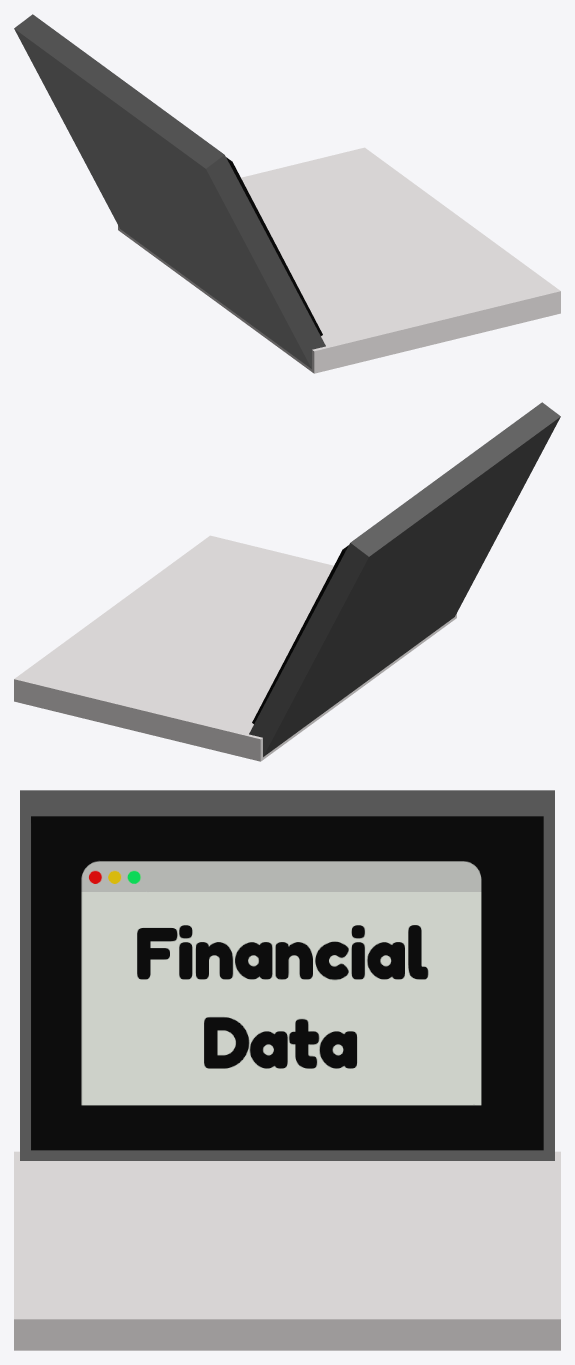
Rendered from laptop.glb.
The picture shows the model from 3 angles, top to bottom: view 1: azimuth 30°, elevation 25°; view 2: azimuth 150°, elevation 25°; view 3: azimuth 270°, elevation 25°; orthographic projection. The views are drawn at different scales.
Parts seen in each view (by area): view 1: laptop bottom, laptop top, laptopscreen; view 2: laptop bottom, laptop top, laptopscreen; view 3: laptopscreen, laptop bottom, laptop top.
Boxes of the visible parts, bbox=[...] form: laptop bottom: bbox=[118, 147, 560, 373]; laptop top: bbox=[14, 14, 325, 368]; laptopscreen: bbox=[226, 157, 322, 335]; laptop bottom: bbox=[14, 535, 456, 761]; laptop top: bbox=[249, 402, 560, 756]; laptopscreen: bbox=[252, 545, 348, 723]; laptopscreen: bbox=[31, 816, 543, 1150]; laptop bottom: bbox=[14, 1151, 560, 1350]; laptop top: bbox=[20, 790, 554, 1160].
Bounding box in the file's own units: 0.8702 × 0.5626 × 0.8379.
3 materials, 1 textured.
